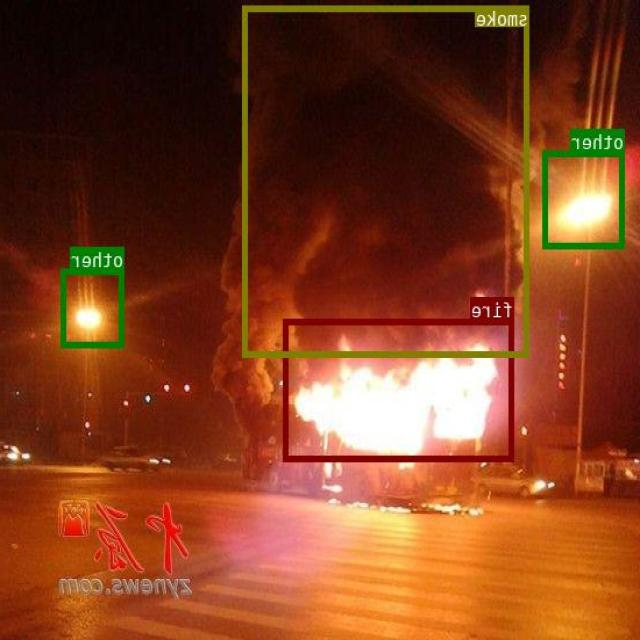fire: (285, 318, 515, 460)
other: (544, 150, 625, 248), (62, 267, 125, 346)
smoke: (244, 4, 530, 356)
